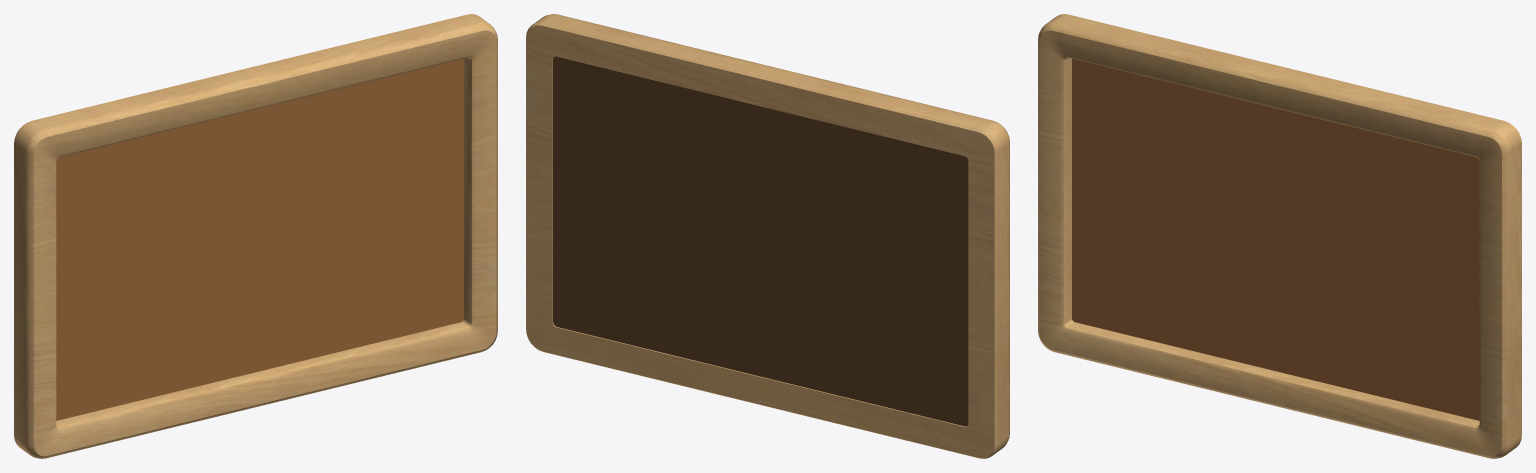
File: corkboard.glb
3 renders of one model, left to right at view 1: azimuth 30°, elevation 25°; view 2: azimuth 150°, elevation 25°; view 3: azimuth 330°, elevation 25°, orthographic.
Parts seen in each view (by area): view 1: Recessed cork panel__asset.001, Rounded wooden frame__asset.001; view 2: Solid rear backing__asset.001, Rounded wooden frame__asset.001; view 3: Recessed cork panel__asset.001, Rounded wooden frame__asset.001.
Part boxes in pixels (x1,y1,x2,y2): Recessed cork panel__asset.001: (56,58,463,420); Rounded wooden frame__asset.001: (14,14,497,458); Solid rear backing__asset.001: (553,56,968,426); Rounded wooden frame__asset.001: (526,14,1009,458); Recessed cork panel__asset.001: (1072,58,1479,420); Rounded wooden frame__asset.001: (1038,14,1521,458).
Bounding box in the file's own units: 0.9 × 0.6 × 0.055.
3 materials, 1 textured.
